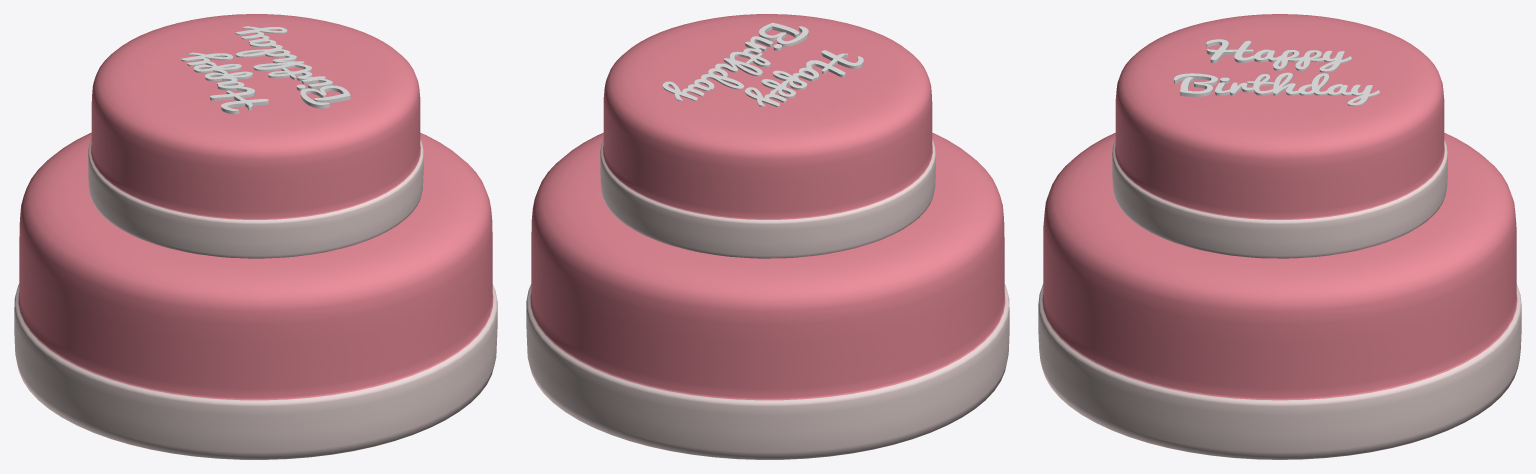
Rendered from cake3d.glb.
The picture shows the model from 3 angles, left to right: view 1: azimuth 30°, elevation 25°; view 2: azimuth 150°, elevation 25°; view 3: azimuth 270°, elevation 25°; orthographic projection.
Visible parts, largest first — view 1: Cake layer 1.001, Cake layer 1, Text; view 2: Cake layer 1.001, Cake layer 1, Text; view 3: Cake layer 1.001, Cake layer 1, Text.
Boxes of the visible parts, x1,y1,x2,y2 form: Cake layer 1.001: [14, 132, 497, 459]; Cake layer 1: [88, 14, 423, 258]; Text: [181, 26, 350, 114]; Cake layer 1.001: [526, 132, 1009, 459]; Cake layer 1: [600, 14, 935, 258]; Text: [662, 22, 863, 107]; Cake layer 1.001: [1038, 133, 1521, 459]; Cake layer 1: [1112, 14, 1447, 258]; Text: [1174, 39, 1379, 106].
Bounding box in the file's own units: 8.88 × 5.89 × 8.88.
